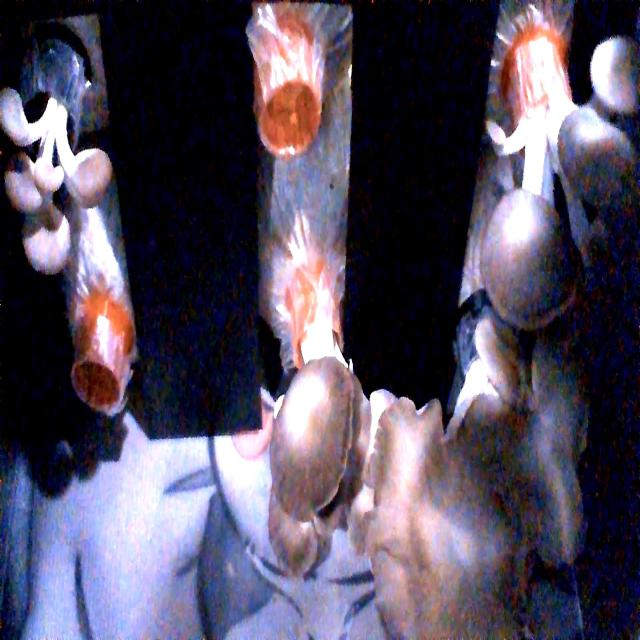big: (378, 380, 582, 639), (466, 49, 633, 332), (245, 365, 401, 556)
nfound: (262, 52, 319, 174), (65, 348, 127, 426)
small: (0, 74, 125, 284)
